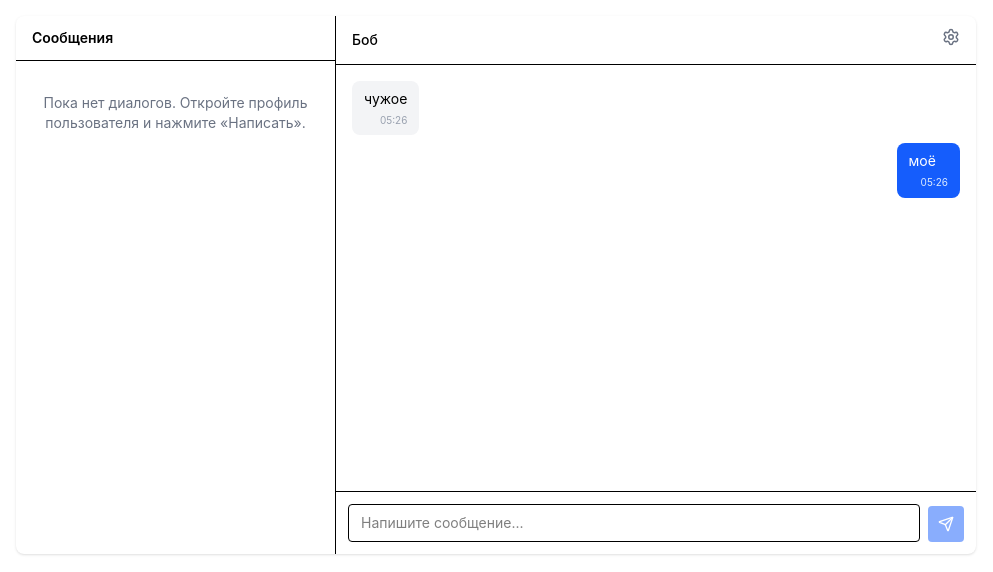
Test case: MessagesPage: редактирование › сохранение отправляет новый текст, показывает «изменено» и возвращает черновик
This screenshot has width=993, height=572.
Expected: the text "моё" is shown, [909, 152, 936, 169]
Type "черновик" into the text box with placeholder "Напишите сообщение..." at (634, 523), box [348, 504, 920, 542]
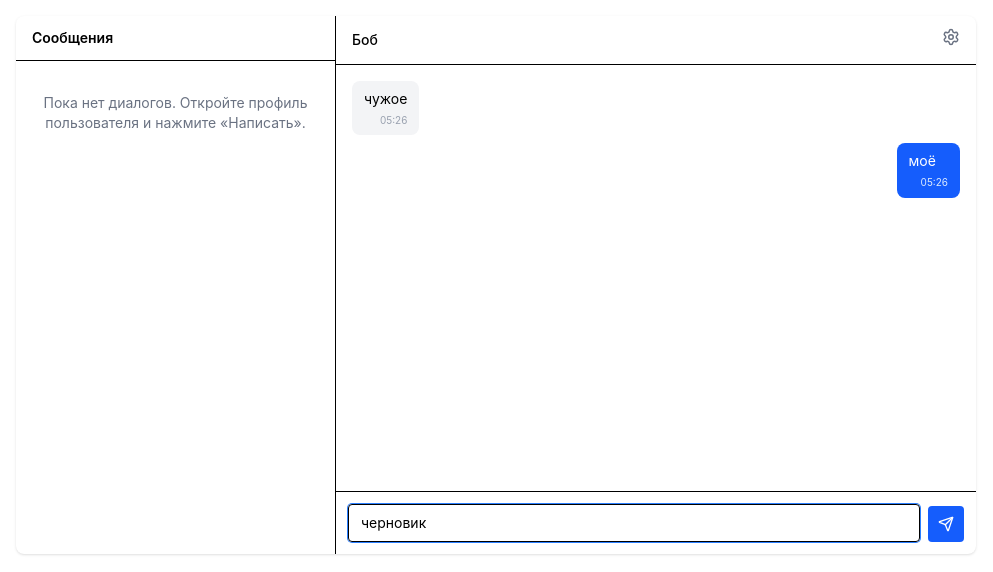
Click the text "моё" at (922, 161), box [909, 152, 936, 169]
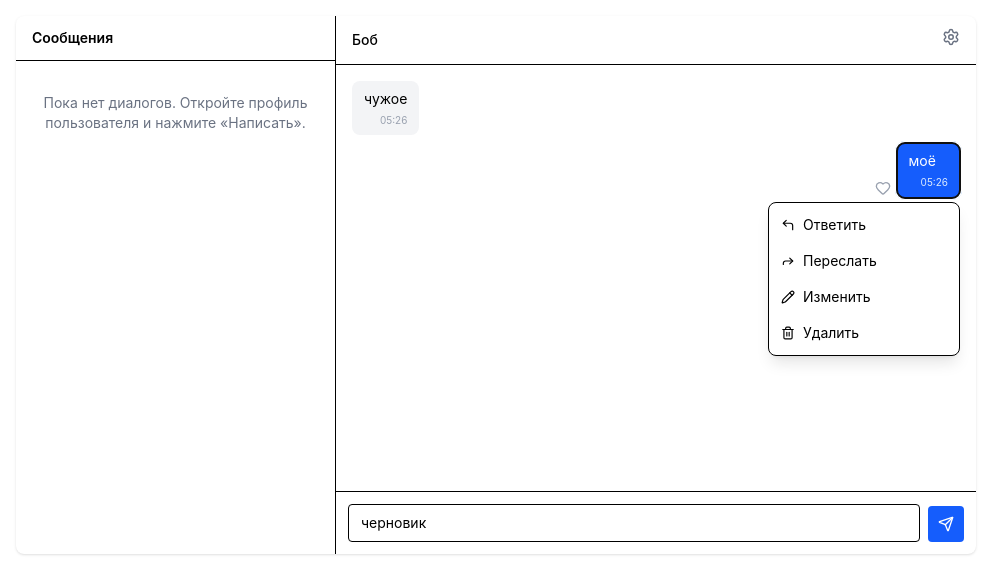
Click the menu item "Изменить" at (864, 297), box [769, 279, 959, 315]
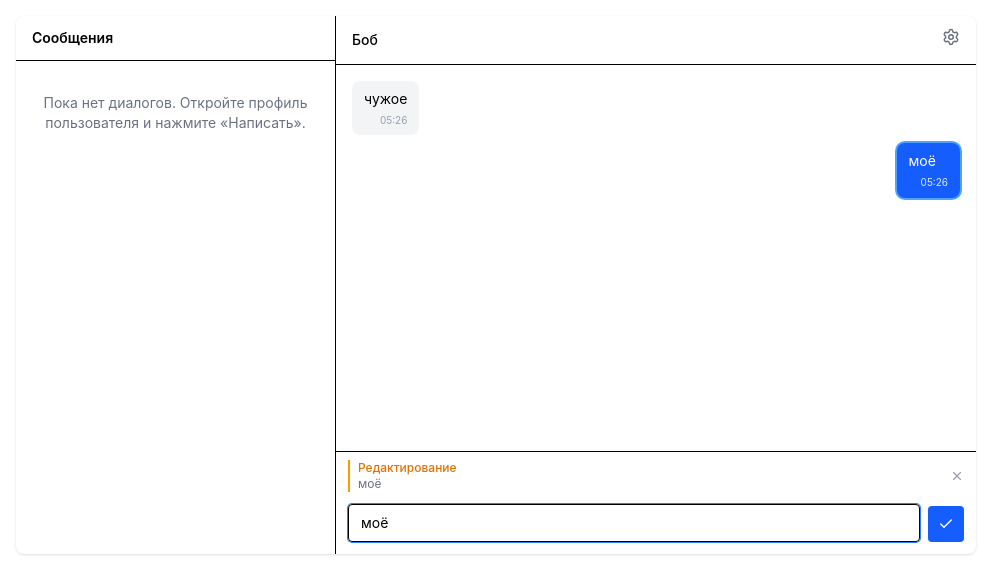
Replace the text in the text box with placeholder "Напишите сообщение..." with "новое" at (634, 523), box [348, 504, 920, 542]
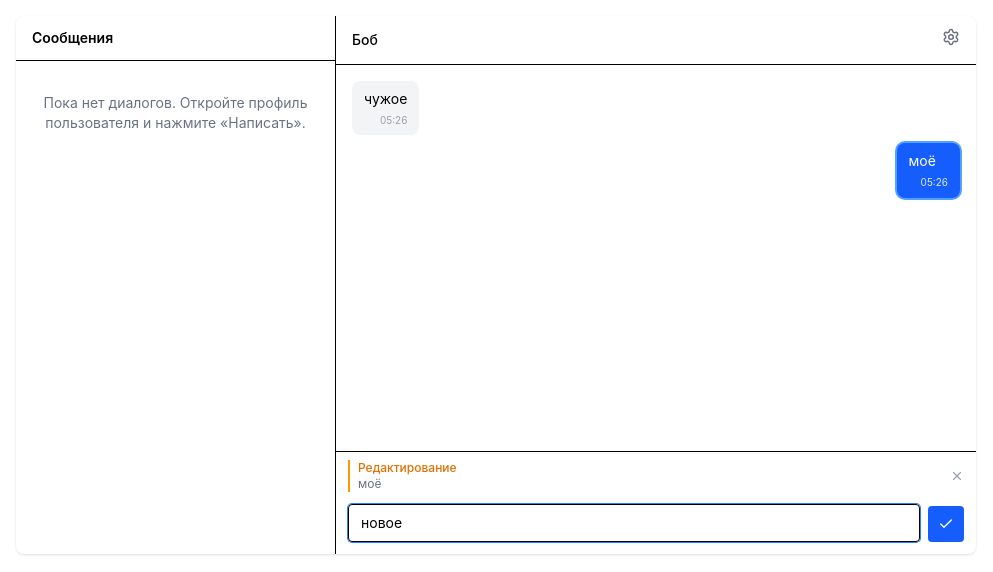
Click the button named "Сохранить" at (946, 524), box [928, 506, 964, 542]
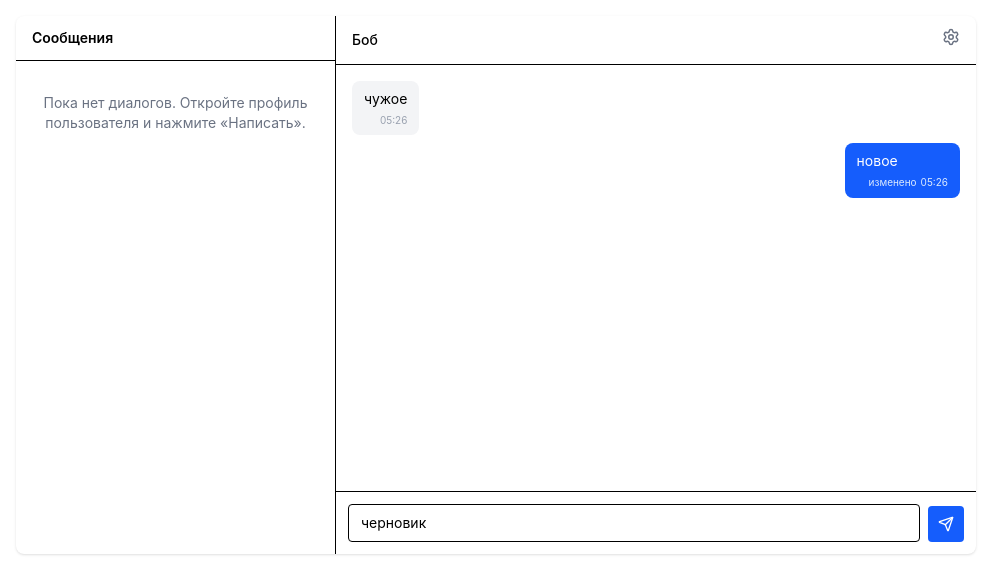
Now the text "новое" is shown, box [857, 152, 898, 169]
Now the text "изменено" is shown, box [869, 176, 917, 188]
Now the button named "Отправить" is shown, box [928, 506, 964, 542]
